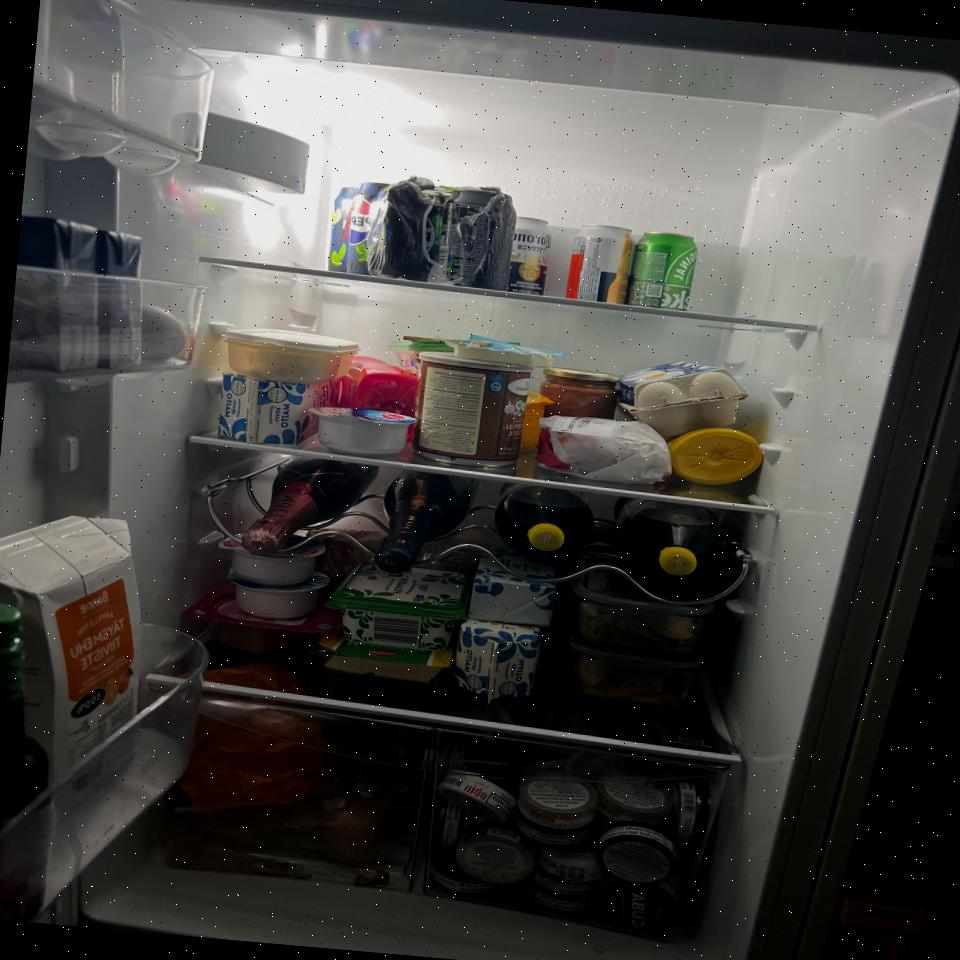Huevos: (612, 356, 750, 445)
Leche: (216, 369, 342, 452), (452, 618, 542, 708)
mustard: (666, 424, 762, 490)
